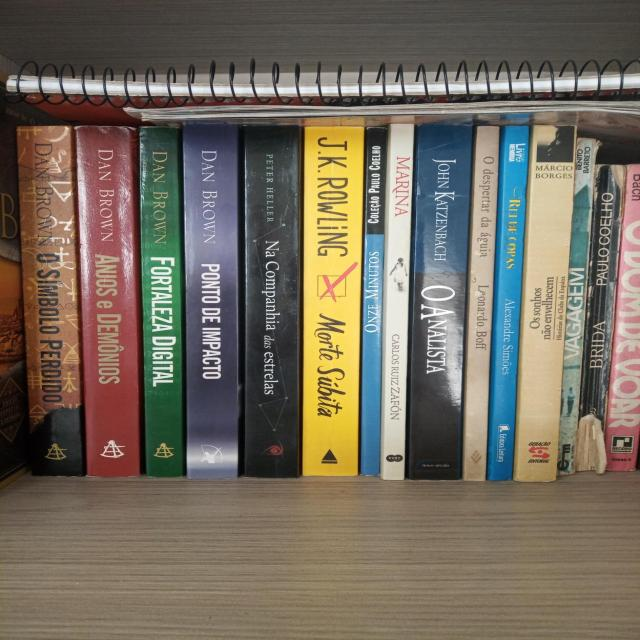book: (88, 130, 132, 471), (23, 128, 66, 469), (140, 132, 183, 472), (189, 131, 232, 471), (248, 132, 291, 472), (309, 130, 352, 470), (421, 125, 455, 475), (534, 127, 567, 476), (579, 166, 599, 473), (364, 136, 380, 466), (389, 128, 402, 476), (473, 128, 485, 475), (504, 128, 516, 474), (626, 173, 638, 468)
